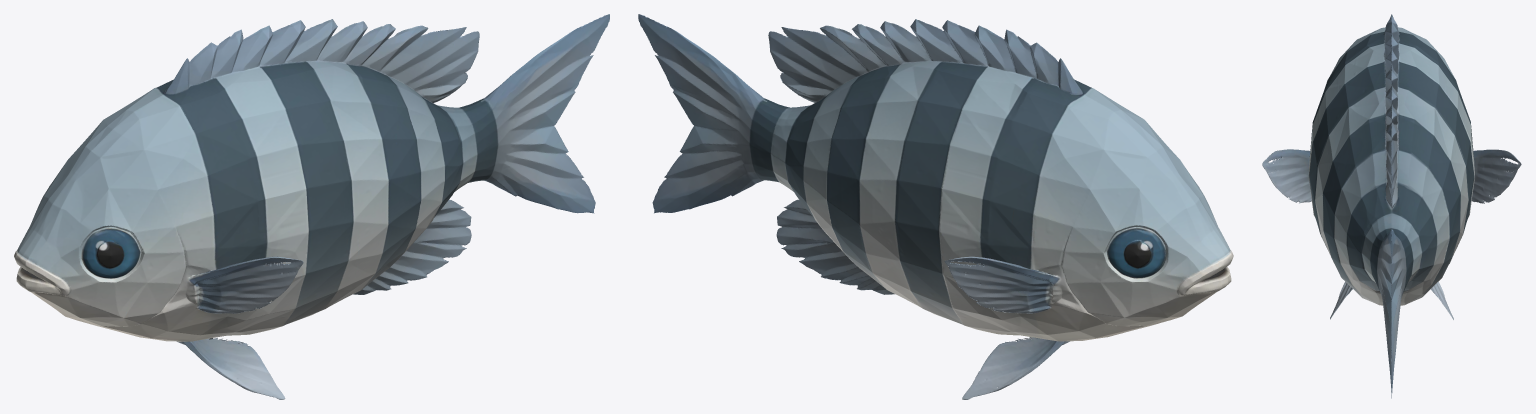
The model's file is Burrita-Negra.glb.
3 views of the same model, side by side, from view 1: azimuth 30°, elevation 25°; view 2: azimuth 150°, elevation 25°; view 3: azimuth 270°, elevation 25° (orthographic). The views are drawn at different scales.
Parts seen in each view (by area): view 1: tripo_node_952e29c0-aa2a-49a3-95e0-74fa04d2b5c5; view 2: tripo_node_952e29c0-aa2a-49a3-95e0-74fa04d2b5c5; view 3: tripo_node_952e29c0-aa2a-49a3-95e0-74fa04d2b5c5.
Part boxes in pixels (<box>): tripo_node_952e29c0-aa2a-49a3-95e0-74fa04d2b5c5: <box>14,14,609,399</box>; tripo_node_952e29c0-aa2a-49a3-95e0-74fa04d2b5c5: <box>638,14,1233,399</box>; tripo_node_952e29c0-aa2a-49a3-95e0-74fa04d2b5c5: <box>1262,14,1521,398</box>.
Size of the model in its own units: 1 by 0.5597 by 0.4469.
1 material, 1 textured.
